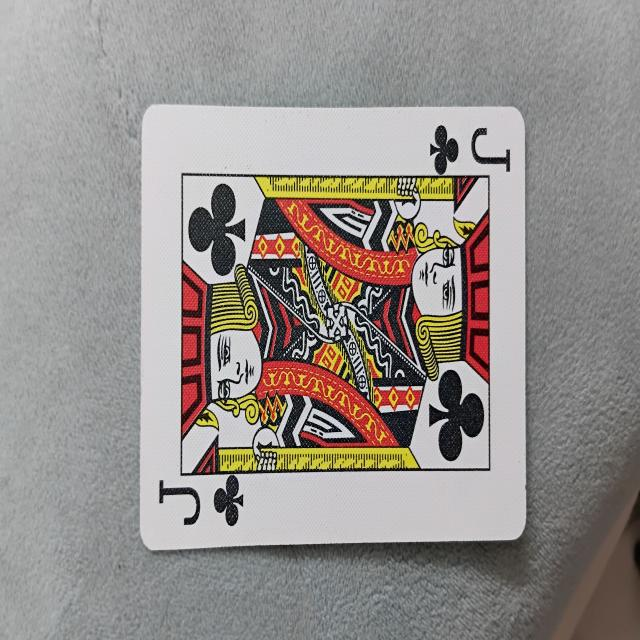JC: (140, 106, 526, 550)
